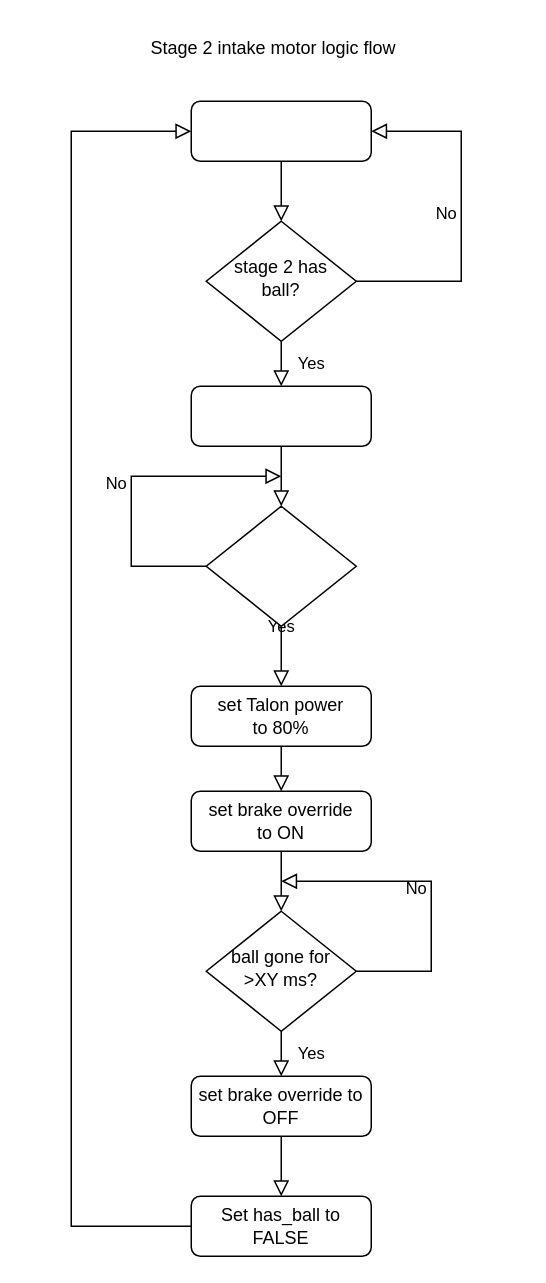
This 546x1283 diagram has some shape labels left out. Here are the shapes that lost their labels. From the top down, the centre of each, then its label:
At (280,130): "Run stage 2 motor at 20%".
At (280,415): "Set has_ball to TRUE".
At (280,565): "Is firing OI button pressed?".
